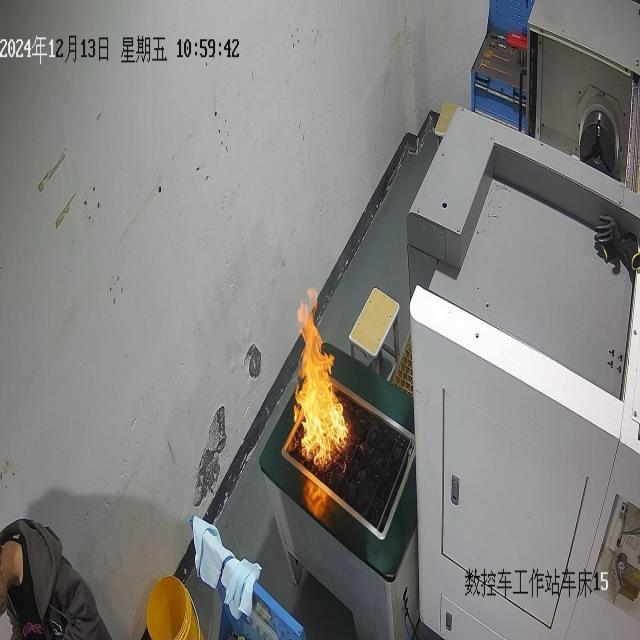smoke: (294, 286, 352, 470)
